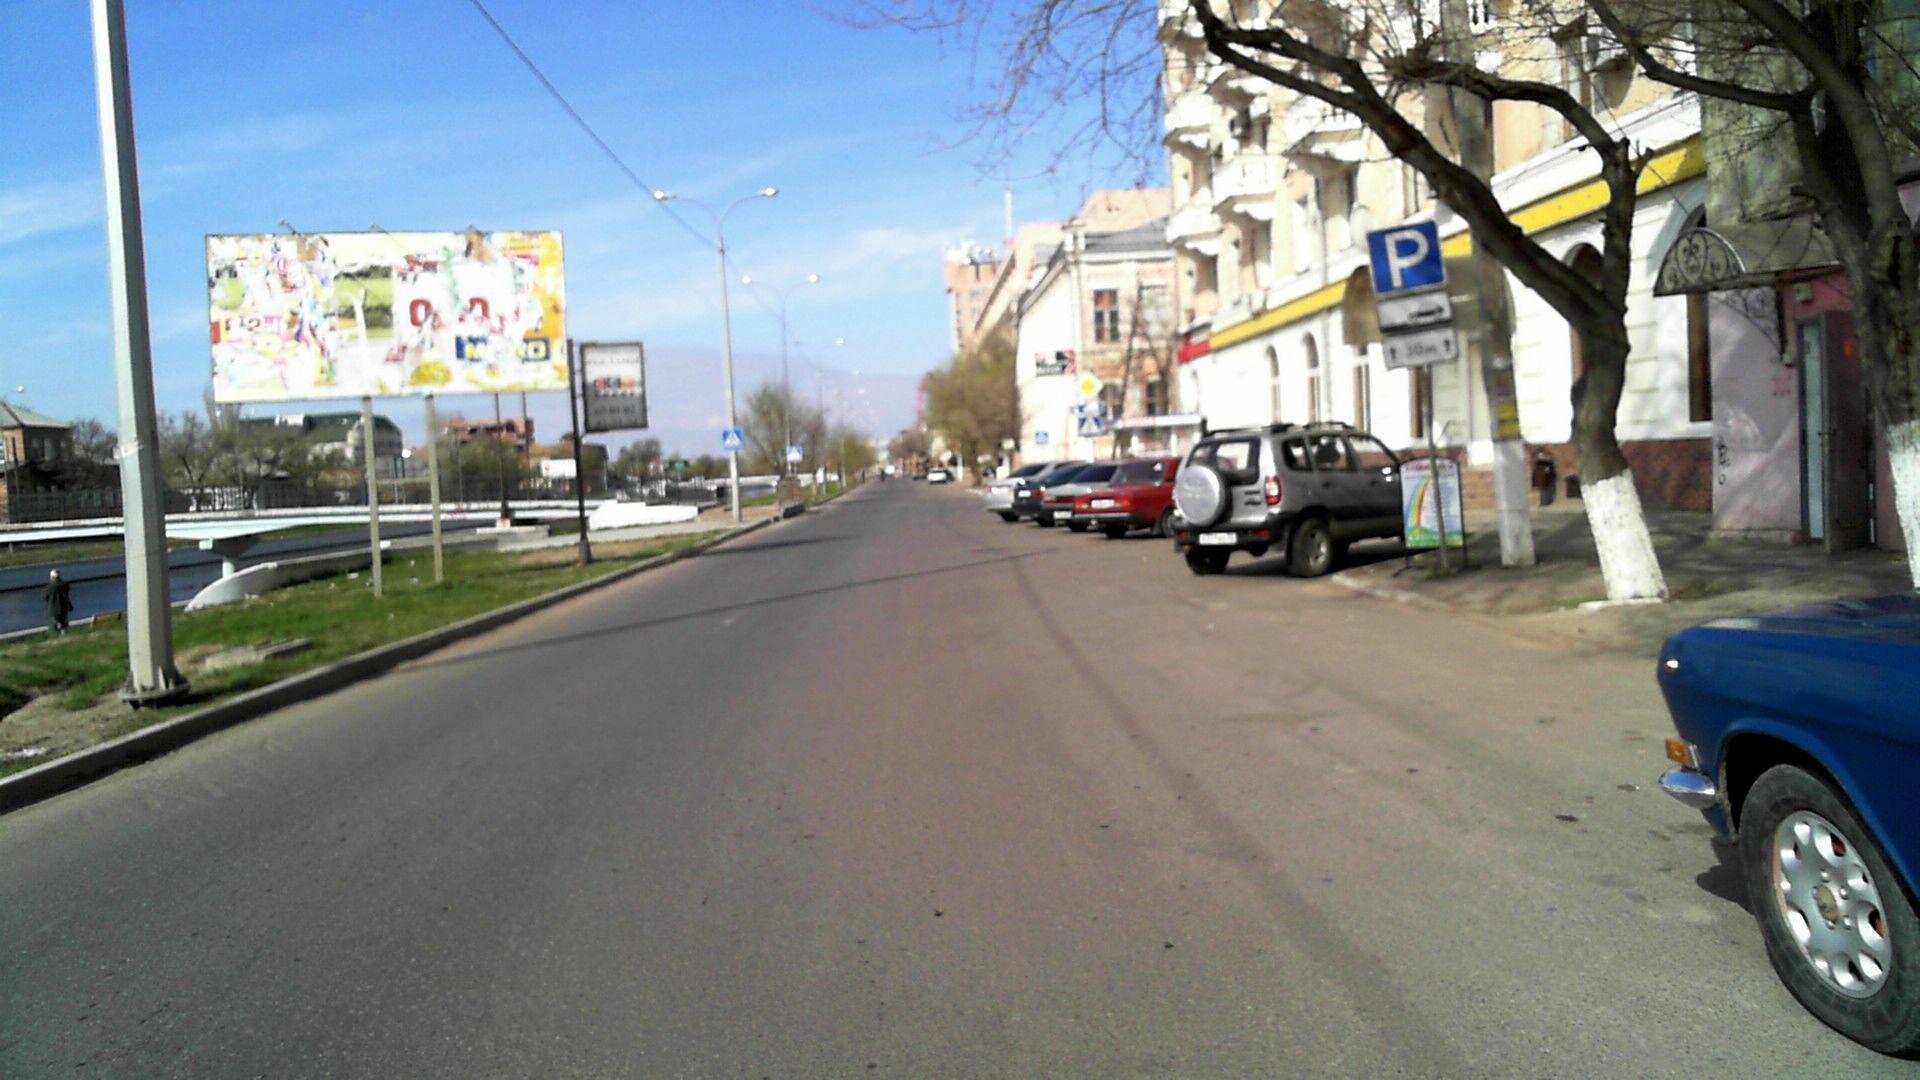2_1: (1072, 369, 1106, 399)
5_19_1: (1078, 414, 1105, 439), (1032, 431, 1051, 447)
5_19_2: (722, 430, 743, 449), (785, 445, 804, 464)
6_4: (1362, 220, 1450, 291)
8_2_1: (1383, 329, 1458, 372)
8_6_5: (1371, 293, 1458, 335)
